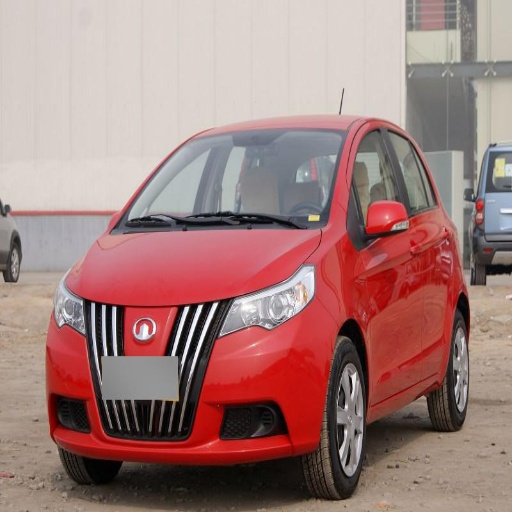front_bumper: (52, 298, 336, 464)
front_glass: (112, 133, 345, 231)
front_left_door: (349, 123, 425, 401)
front_right_light: (54, 287, 87, 335)
